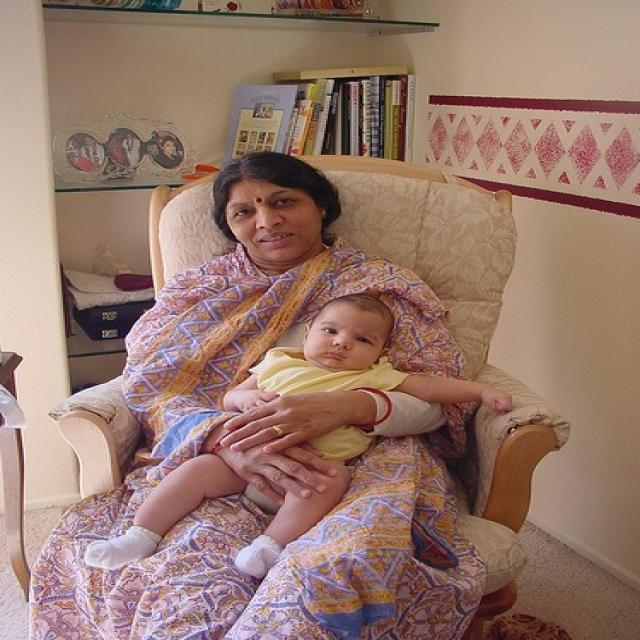chair: (51, 140, 570, 624)
